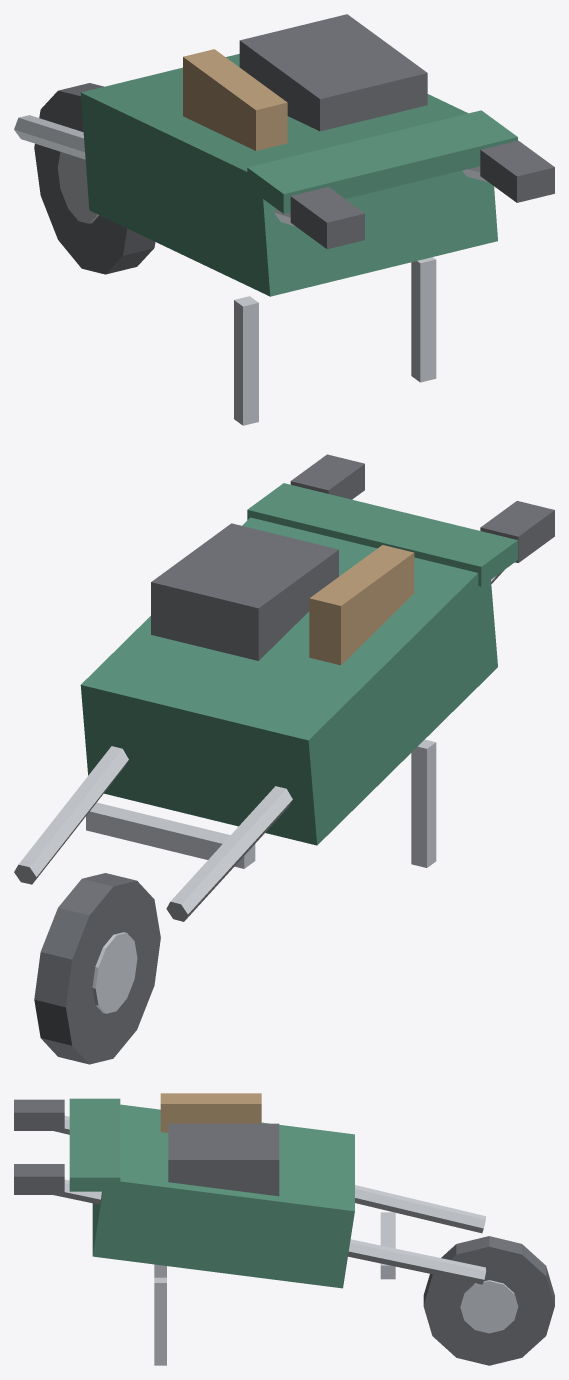
Rendered from racecourse-and-parade-ring-ground-staff-barrow-55e9141a__38642.glb.
The picture shows the model from 3 angles, top to bottom: view 1: azimuth 30°, elevation 25°; view 2: azimuth 150°, elevation 25°; view 3: azimuth 270°, elevation 25°; orthographic projection. The views are drawn at different scales.
Parts seen in each view (by area): view 1: ground-staff-barrow, wheel-front/charcoal, wheel-front/steel; view 2: ground-staff-barrow, wheel-front/charcoal, wheel-front/steel; view 3: ground-staff-barrow, wheel-front/charcoal, wheel-front/steel.
Boxes of the visible parts, x1,y1,x2,y2 form: ground-staff-barrow: (14, 14, 554, 425); wheel-front/charcoal: (34, 83, 155, 274); wheel-front/steel: (57, 152, 99, 223); ground-staff-barrow: (14, 454, 554, 921); wheel-front/charcoal: (34, 873, 160, 1064); wheel-front/steel: (92, 932, 137, 1013); ground-staff-barrow: (14, 1093, 485, 1365); wheel-front/charcoal: (423, 1236, 554, 1365); wheel-front/steel: (460, 1280, 518, 1333).
Size of the model in its own units: 0.74 by 1.05 by 2.14.
